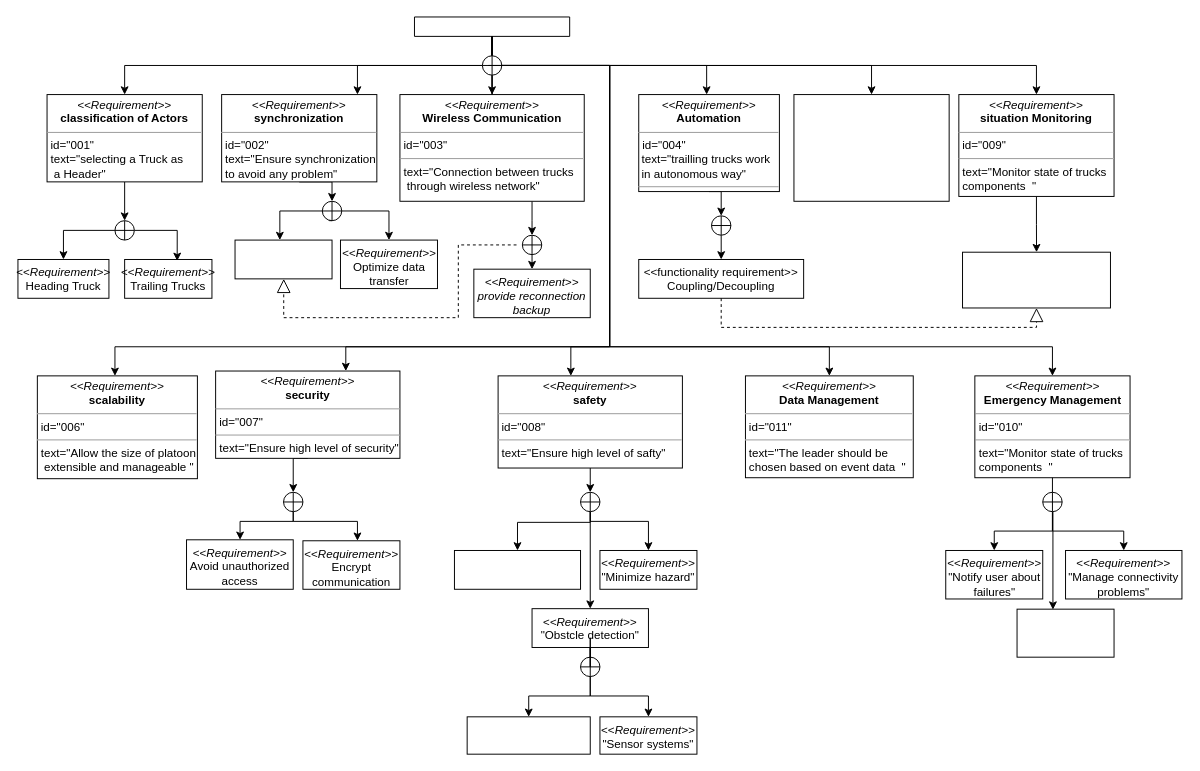
This 1200x771 diagram has some shape labels left out. Here are the shapes that lost their labels. From the top down, the centre of each, then its label:
(492,26): Truck Platooning
(871,147): << Requirement >> Maintenance id="005" text="Maintenance of trucks periodically"
(283,259): <<Requirement>> Avoid Latency
(1036,279): <<requirement>> check state of mechanical, electrical and software parts
(517,569): <<Requirement>> "Maintain safe distance"
(1065,632): << Requirement>> "Manage truck breakdowns"
(528,735): << Requirement>> "Camera Functionality"
